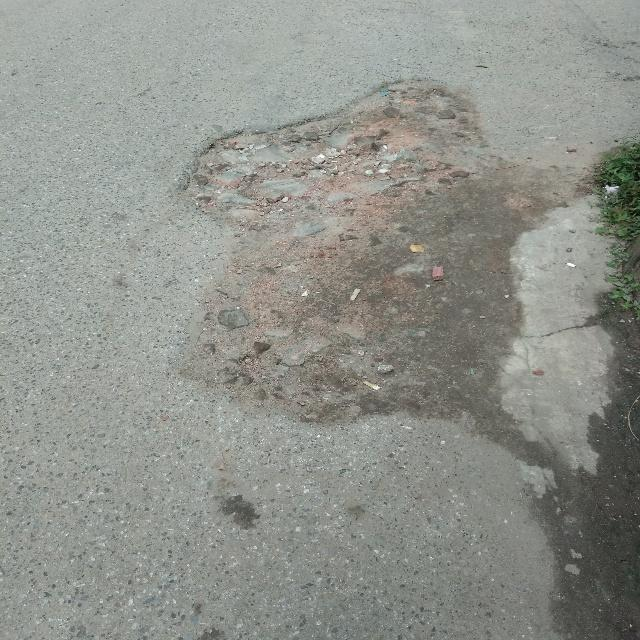Surface Erosion: (123, 73, 640, 578)
